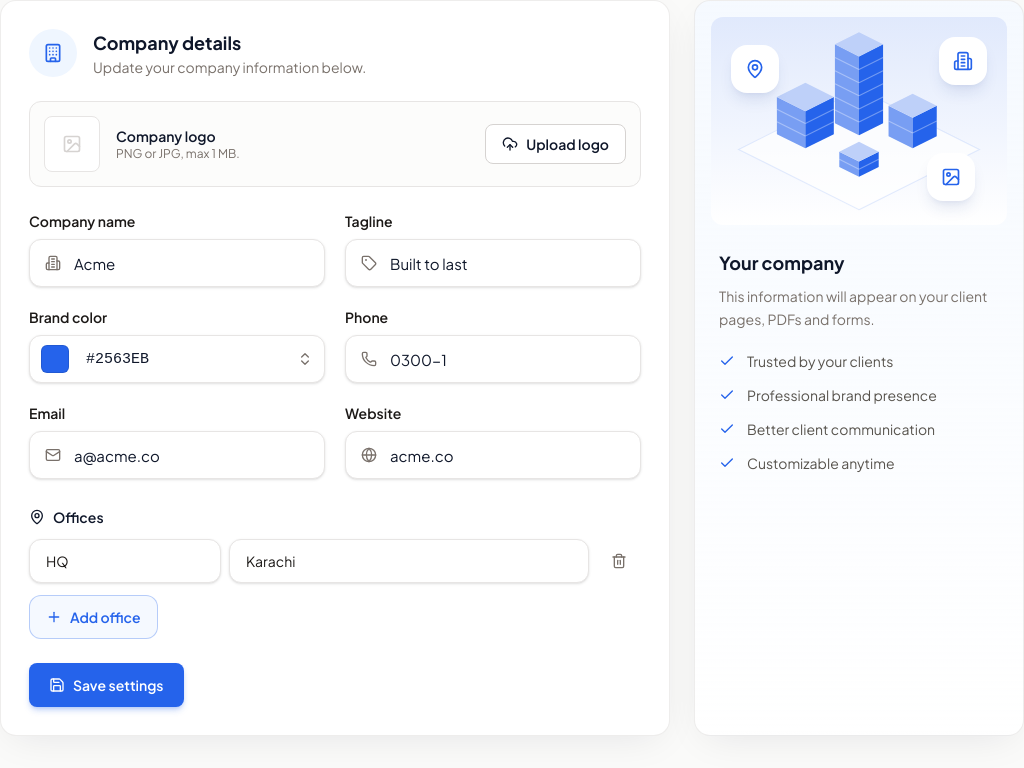
it: OrgSettingsForm › shows the server error
Click the button "Save settings".
click(106, 685)  # box [29, 663, 184, 707]
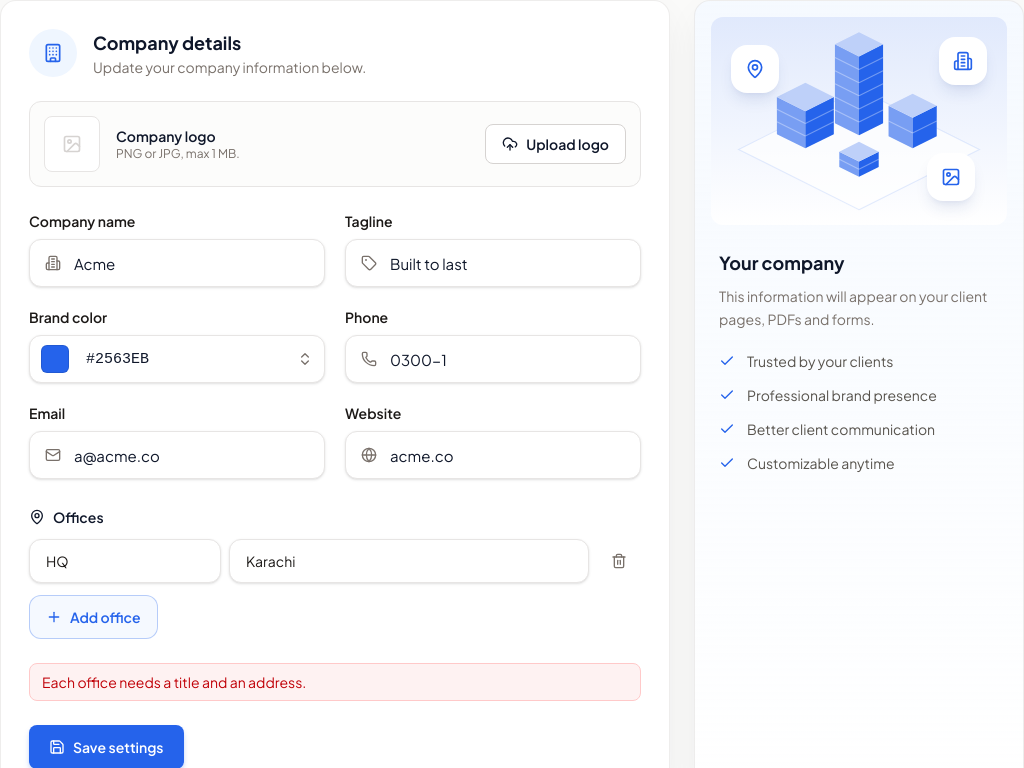
Expected: the message shows "Each office", [42, 673, 306, 691]
